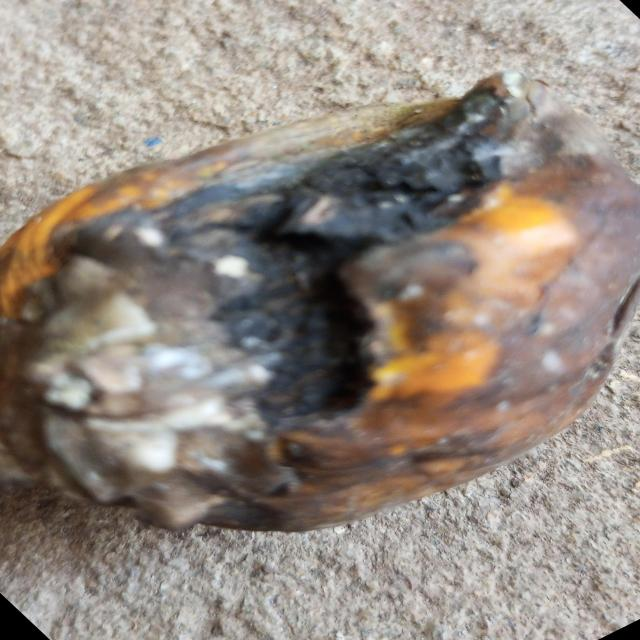damaged: (0, 72, 640, 531)
